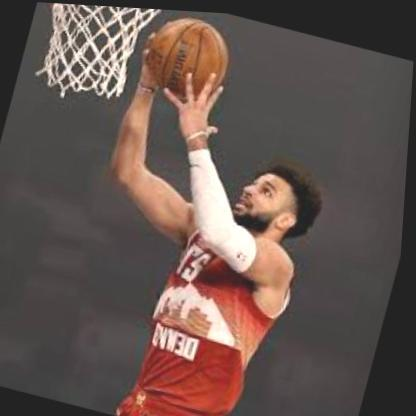basketball: (140, 7, 239, 104)
